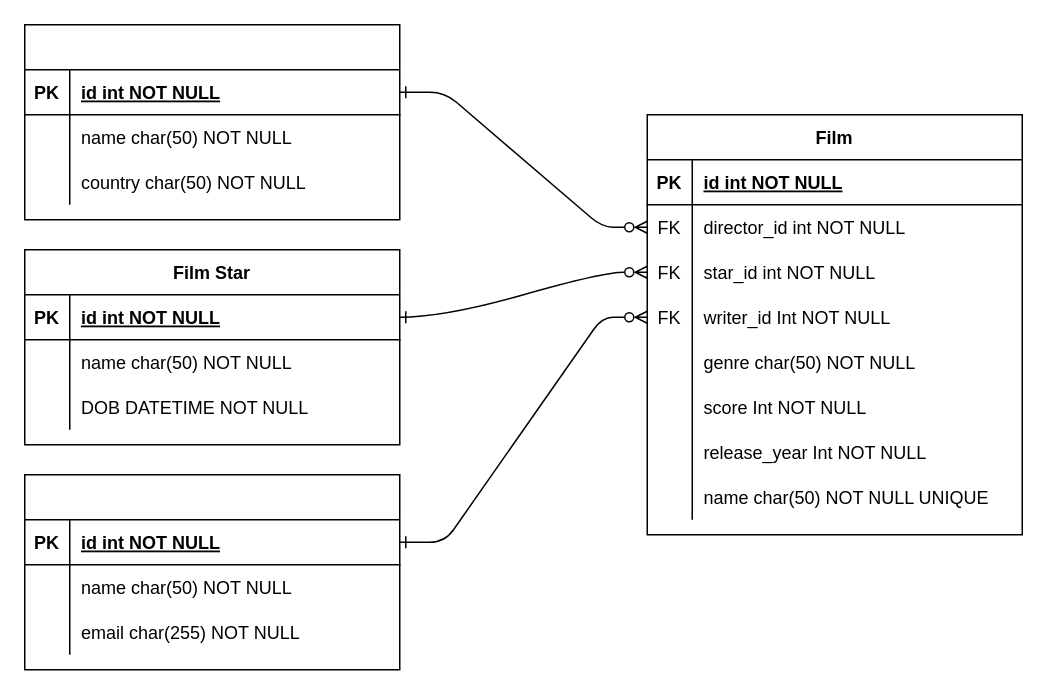
Image size: 1047x695. Some labels were removed from this diagram. Each missing label, with the box of its shape:
Director: (23, 23, 400, 220)
Writer: (23, 473, 400, 670)
